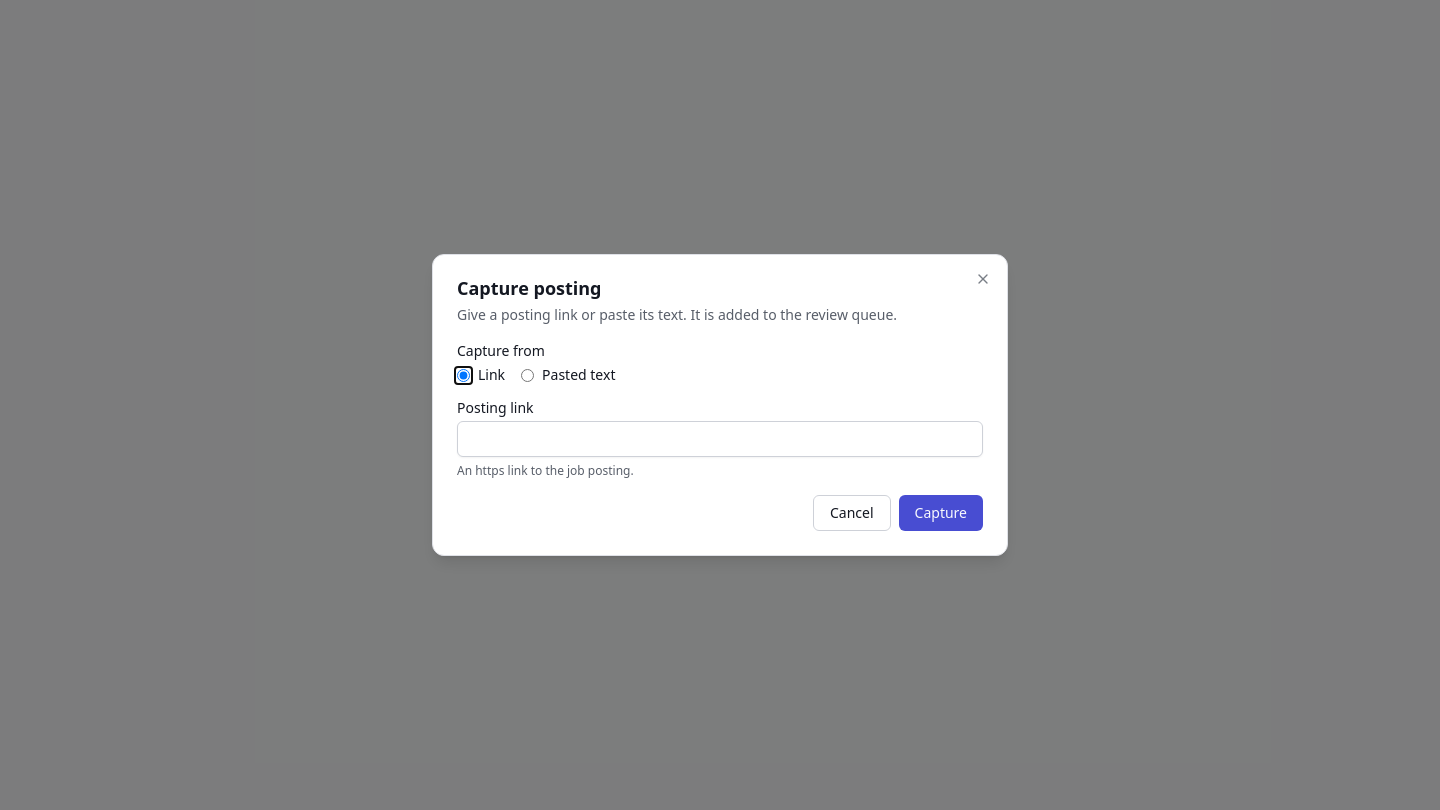
it: CaptureDialog › URL mode posts exactly {url}, toasts and closes
In the field labelled "Posting link": [720, 439] box [457,421,983,457], type "https://careers.initech.example/jobs/42"
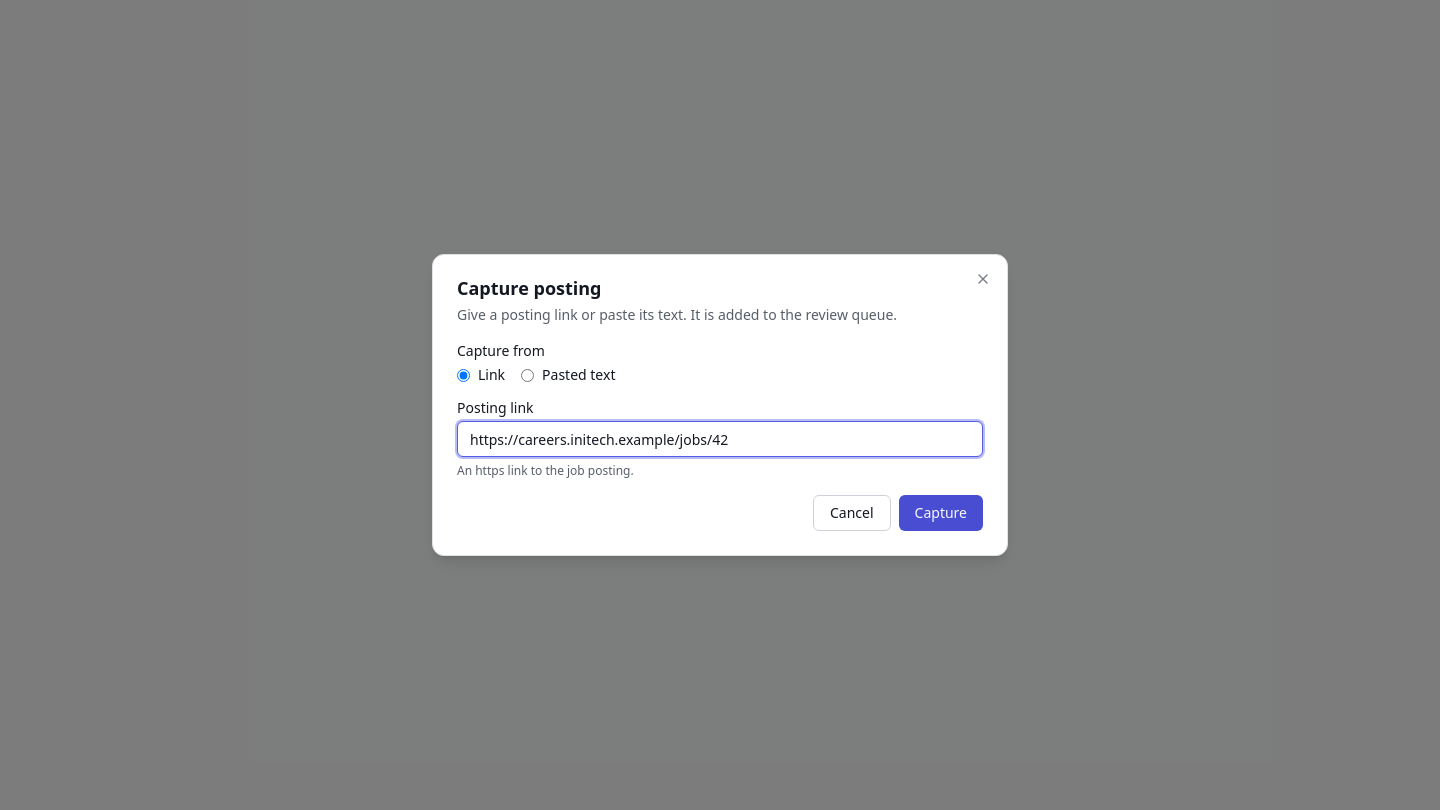
Click the button "Capture": [941, 513] box [899,495,983,531]
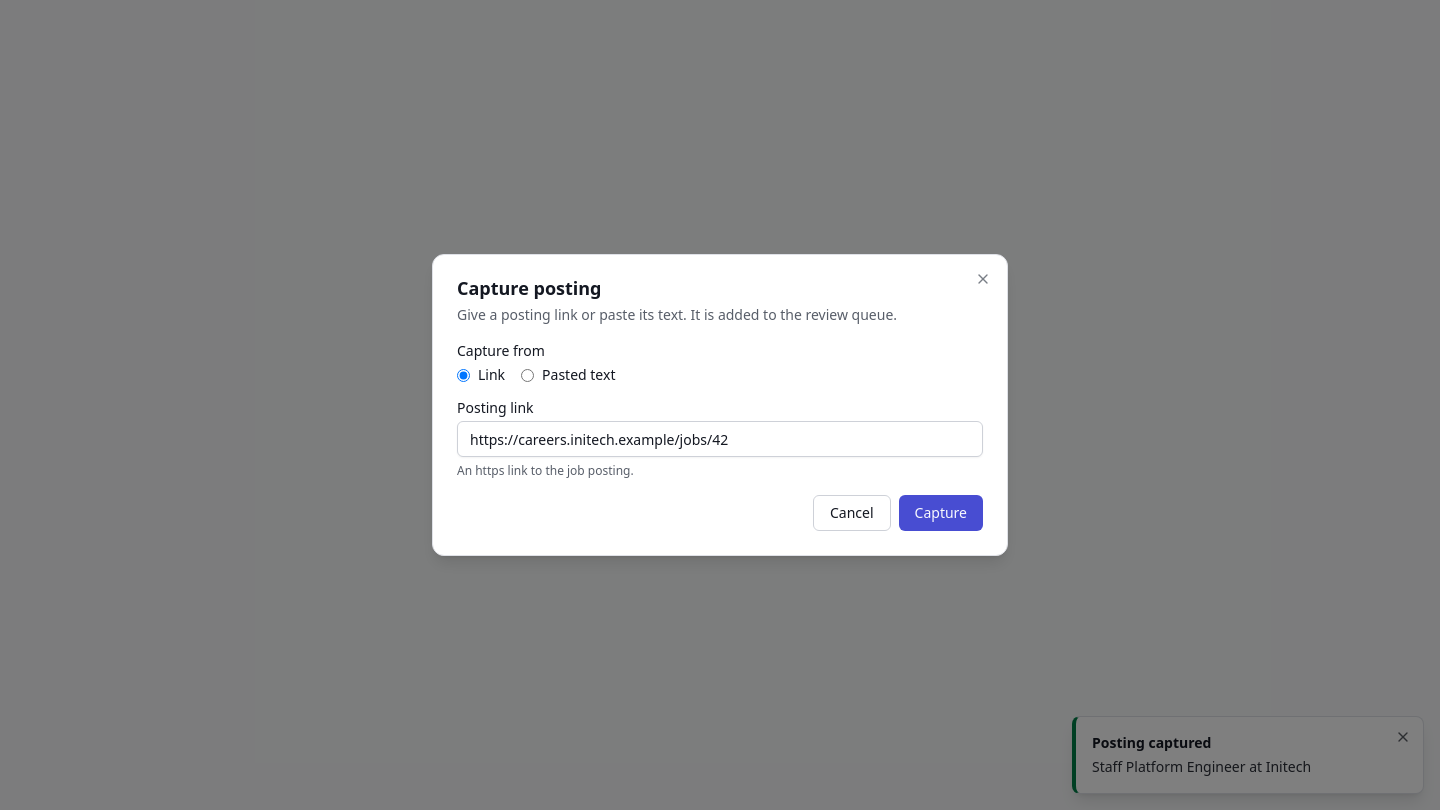
Expected: the text "Posting captured" is shown, [1092,733,1212,752]
